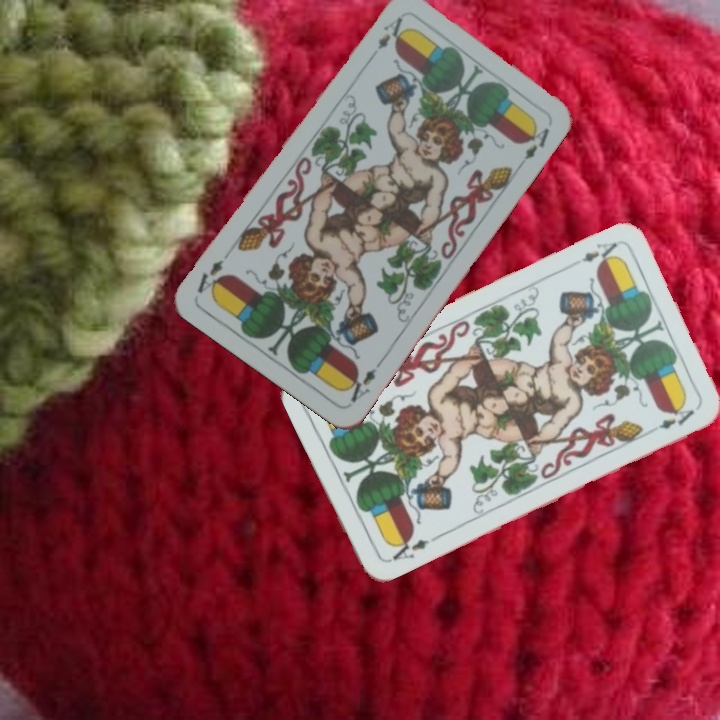EA: (340, 355, 386, 406), (364, 12, 406, 64), (384, 532, 432, 565), (578, 238, 620, 269)
